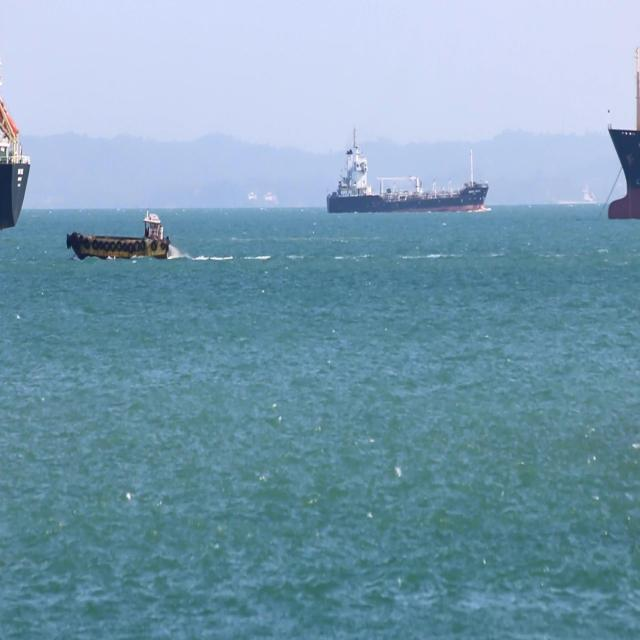ship: (326, 126, 488, 216), (607, 44, 640, 218), (65, 209, 171, 259), (0, 94, 30, 226)
